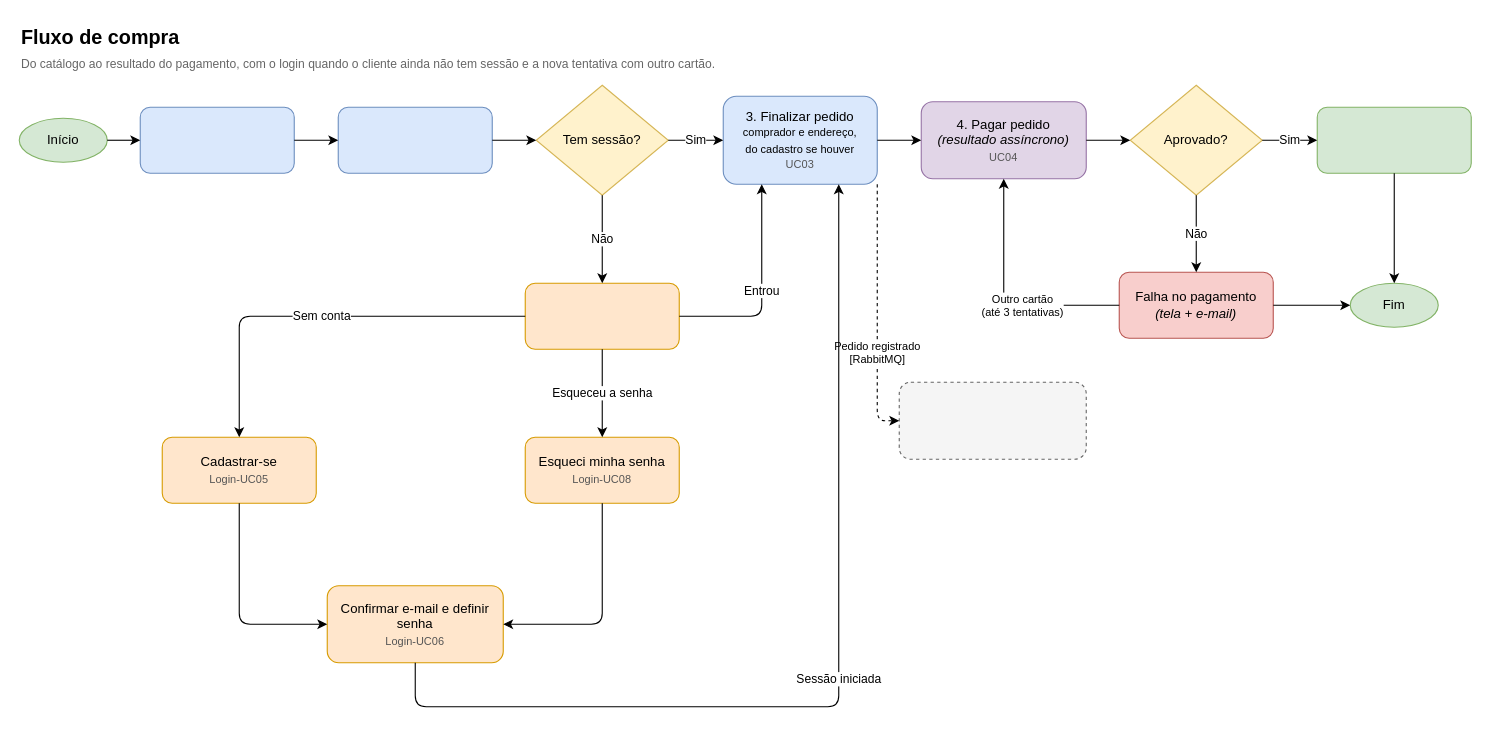
This 1491x735 diagram has some shape labels left out. Each missing label, with the box of its shape:
1. Consultar catálogo UC01: (139, 106, 294, 173)
2. Gerenciar carrinho UC02: (337, 106, 492, 173)
Customers guarda o endereço no histórico; na 1ª compra, cria o cadastro: (898, 381, 1086, 459)
Fazer login Login-UC07: (524, 282, 679, 349)
Pedido confirmado (tela + e-mail): (1316, 106, 1471, 173)
